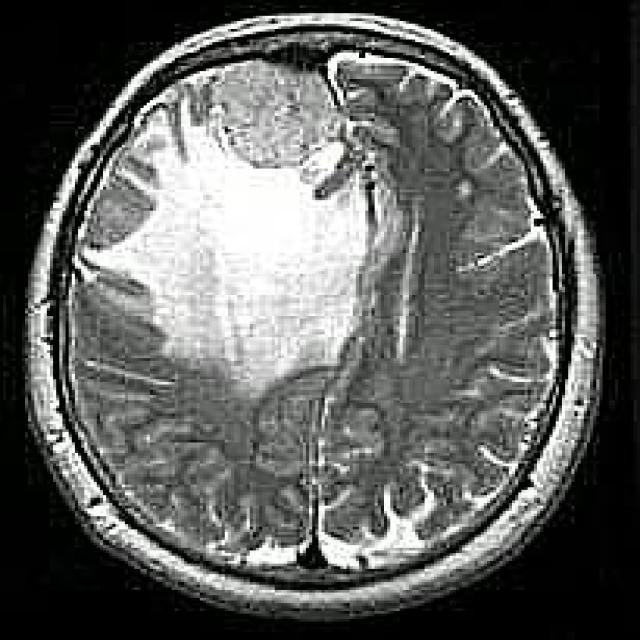Tumor-Cell: (101, 112, 403, 400)
